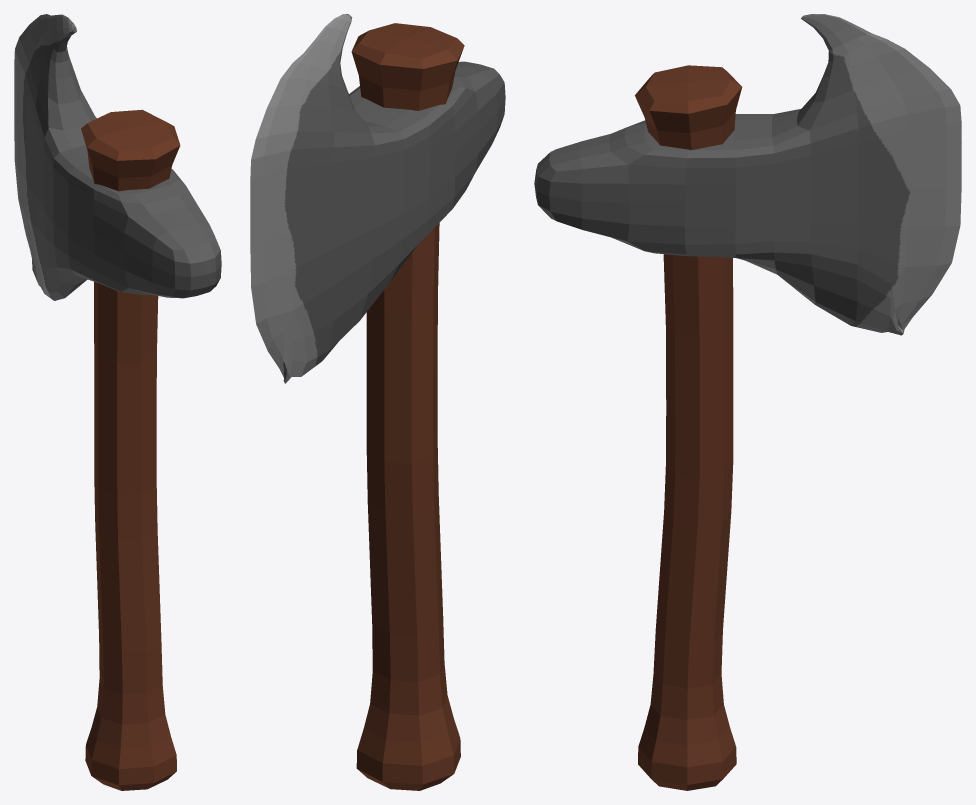
The model's file is Axe.obj.
3 views of the same model, side by side, from view 1: azimuth 30°, elevation 25°; view 2: azimuth 150°, elevation 25°; view 3: azimuth 270°, elevation 25° (orthographic). The views are drawn at different scales.
Parts seen in each view (by area): view 1: Cube; view 2: Cube; view 3: Cube.
Boxes of the visible parts, x1=… form: Cube: x1=14, y1=14, x2=221, y2=790; Cube: x1=250, y1=14, x2=505, y2=790; Cube: x1=534, y1=14, x2=961, y2=790.
Bounding box in the file's own units: 1.54 × 12.06 × 6.09.
